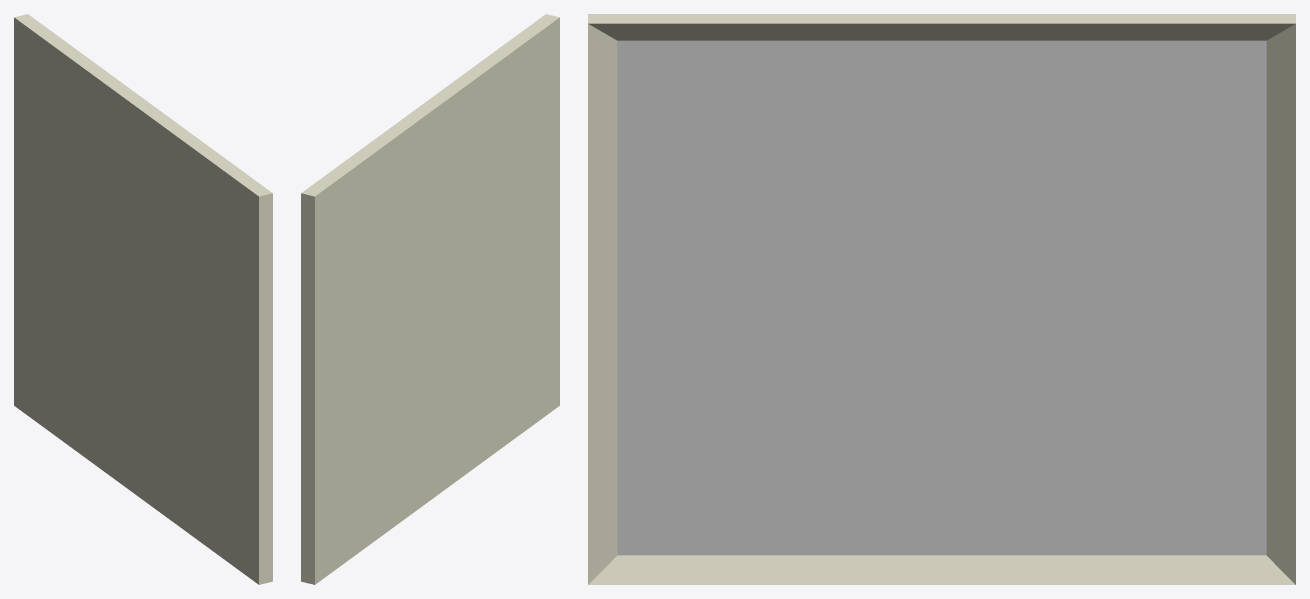
File: SM_Mirror.fbx
3 renders of one model, left to right at view 1: azimuth 30°, elevation 25°; view 2: azimuth 150°, elevation 25°; view 3: azimuth 270°, elevation 25°, orthographic. The views are drawn at different scales.
Visible parts, largest first — view 1: Cube.001; view 2: Cube.001; view 3: Cube.001.
Boxes of the visible parts, <box> form: Cube.001: <box>14,14,272,584</box>; Cube.001: <box>301,14,559,584</box>; Cube.001: <box>588,14,1295,584</box>.
Bounding box in the file's own units: 2.61 × 70 × 80.
